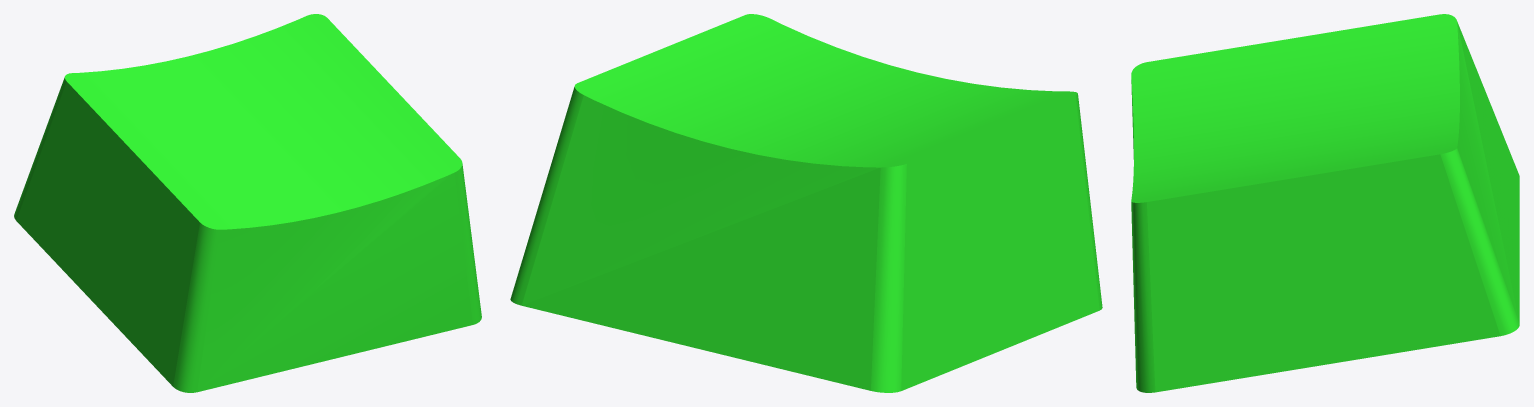
Rendered from original-44.obj.
3 views of the same model, side by side, from view 1: azimuth 30°, elevation 25°; view 2: azimuth 150°, elevation 25°; view 3: azimuth 270°, elevation 25° (orthographic). The views are drawn at different scales.
Parts seen in each view (by area): view 1: 组件_1_32/组件_1/mesh7/mesh7-geometry#mesh7-geometry; view 2: 组件_1_32/组件_1/mesh7/mesh7-geometry#mesh7-geometry; view 3: 组件_1_32/组件_1/mesh7/mesh7-geometry#mesh7-geometry.
Part boxes in pixels (bbox=[...]): 组件_1_32/组件_1/mesh7/mesh7-geometry#mesh7-geometry: bbox=[14, 14, 481, 392]; 组件_1_32/组件_1/mesh7/mesh7-geometry#mesh7-geometry: bbox=[510, 14, 1102, 392]; 组件_1_32/组件_1/mesh7/mesh7-geometry#mesh7-geometry: bbox=[1131, 14, 1519, 392].
Size of the model in its own units: 0.0751 by 0.0489 by 0.0749.
